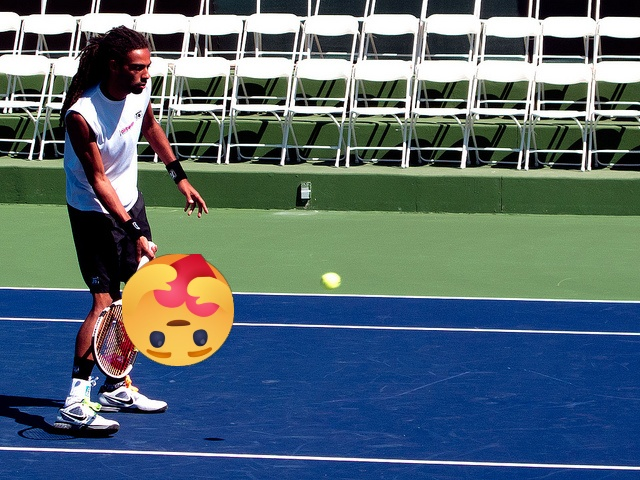care: (122, 254, 234, 366)
